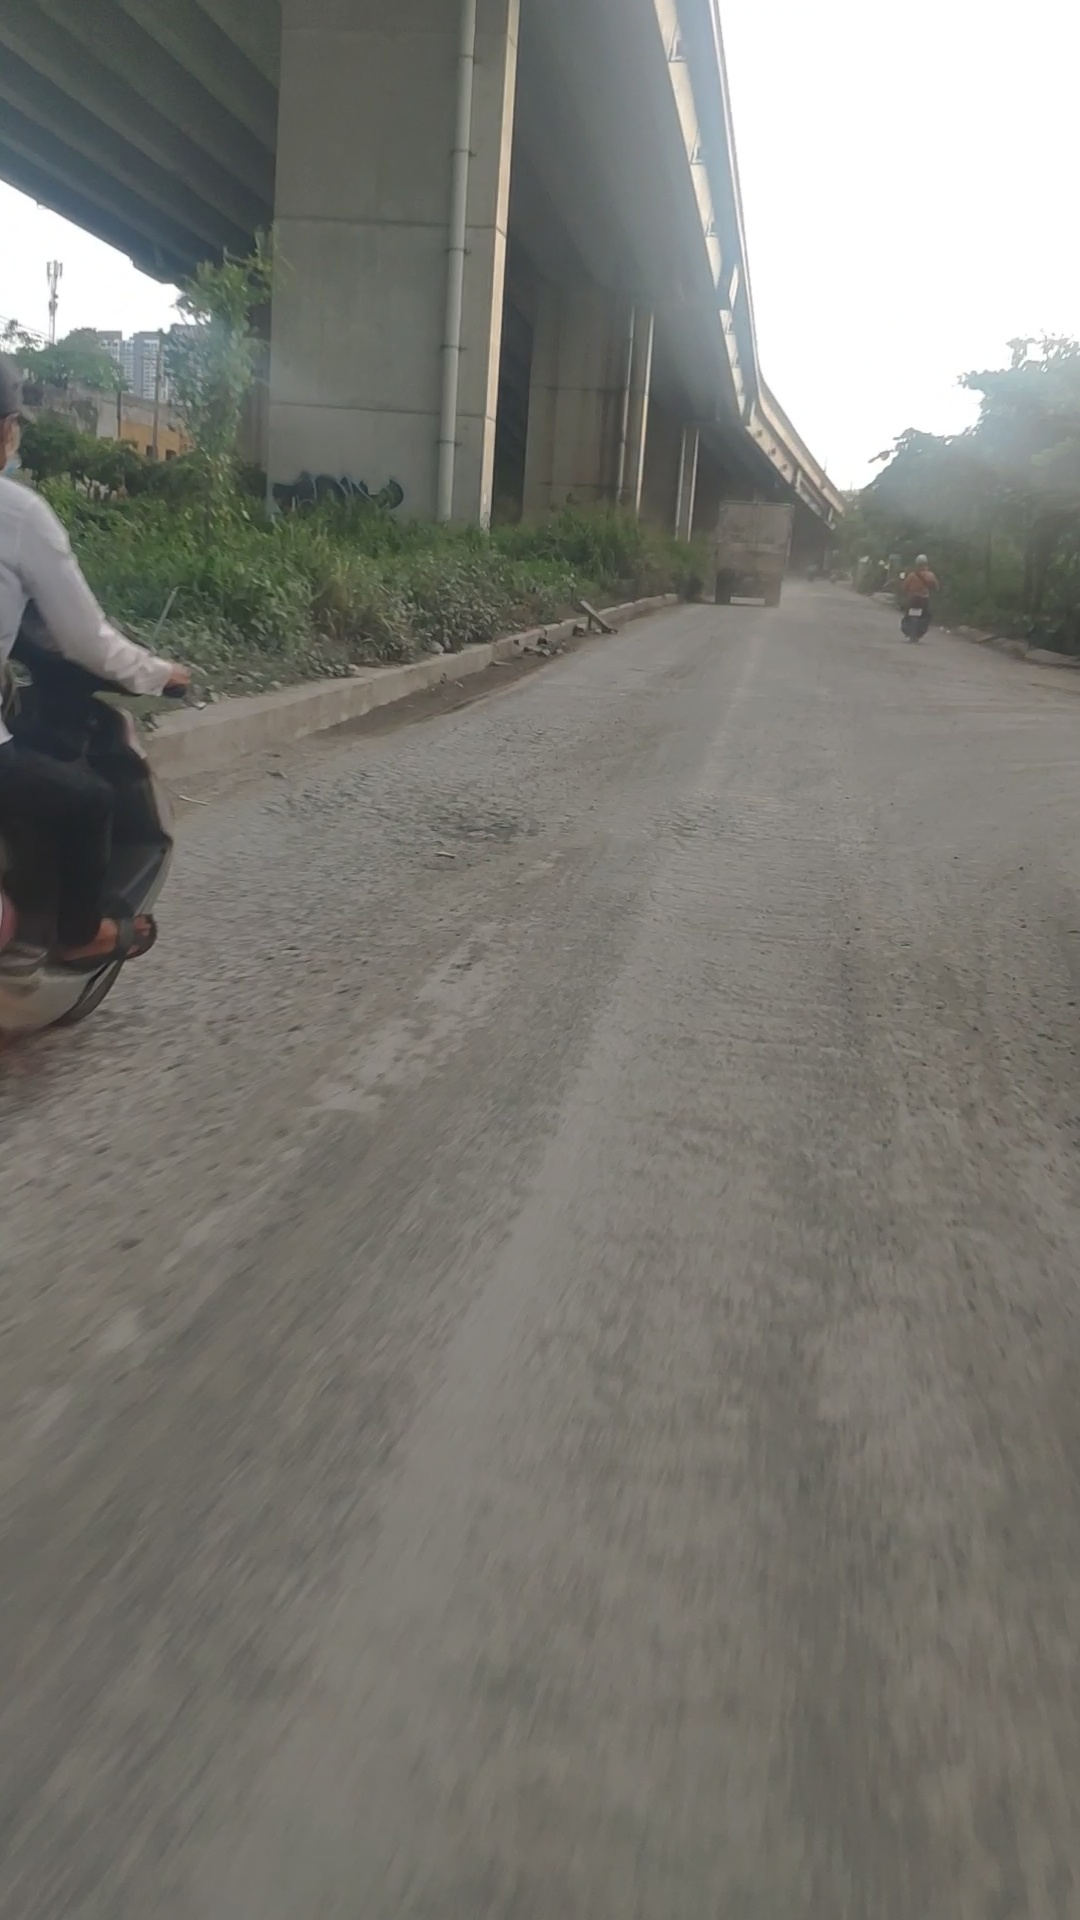hole: (884, 884, 1080, 1216), (253, 771, 571, 872), (444, 708, 676, 798)
